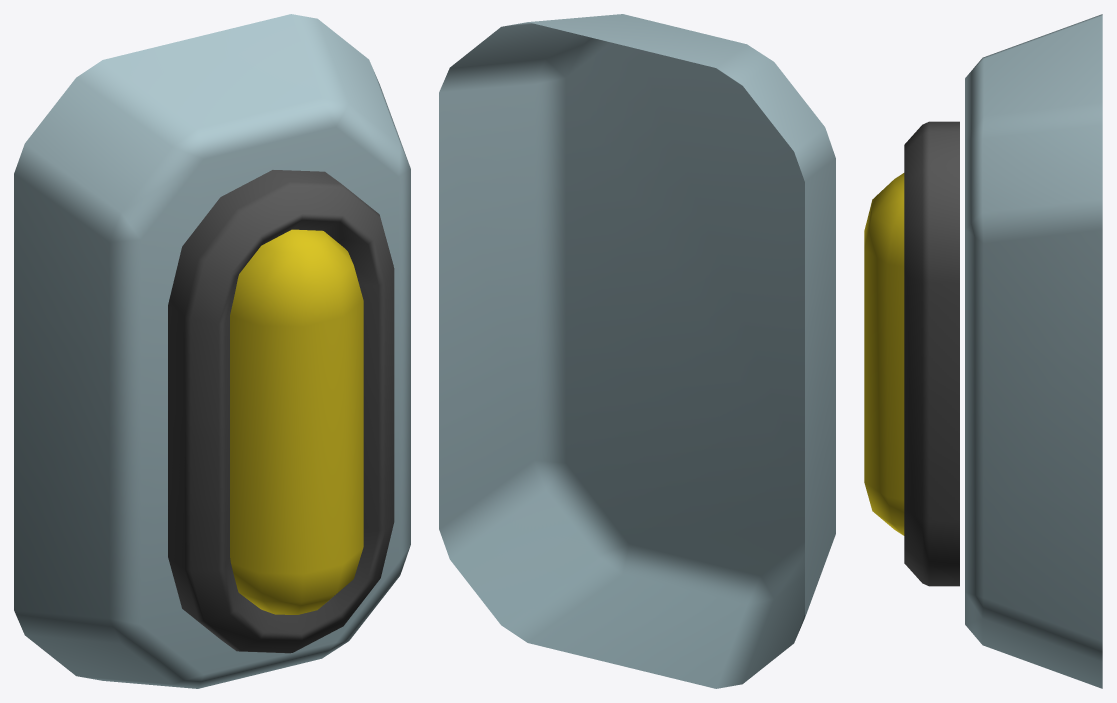
Rendered from SM_Factory_Light.fbx.
The picture shows the model from 3 angles, left to right: view 1: azimuth 30°, elevation 25°; view 2: azimuth 150°, elevation 25°; view 3: azimuth 270°, elevation 25°; orthographic projection. The views are drawn at different scales.
Visible parts, largest first — view 1: pSphere3; view 2: pSphere3; view 3: pSphere3.
Part boxes in pixels (box(x1,y1,x2,y2)): pSphere3: box(14, 14, 410, 688); pSphere3: box(439, 14, 835, 688); pSphere3: box(864, 14, 1102, 688).
Bounding box in the file's own units: 27.93 × 16.73 × 45.3.
